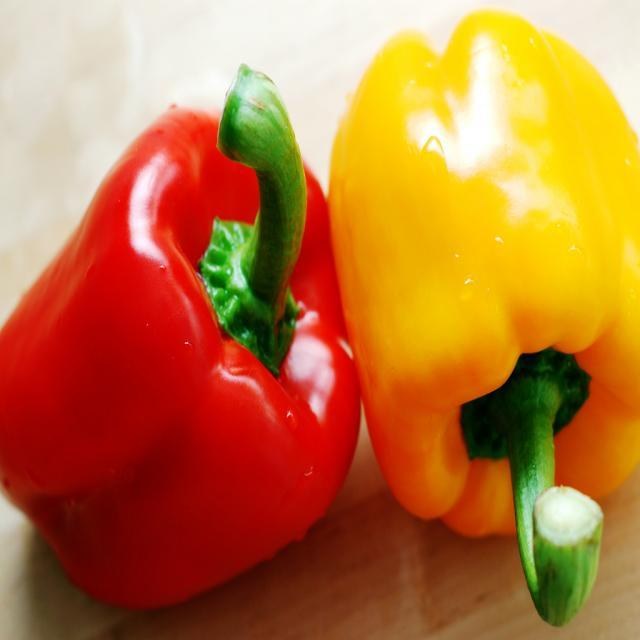Bell pepper: (0, 64, 360, 611), (329, 6, 639, 630)
